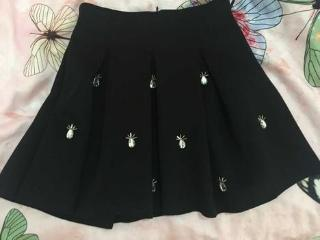skirt: (0, 0, 319, 229)
